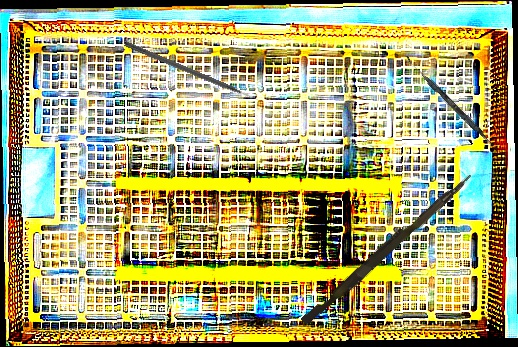Hook Surgical: (123, 41, 259, 104)
Pusher: (300, 167, 474, 330)
Spatula Surgical: (401, 55, 502, 152)
